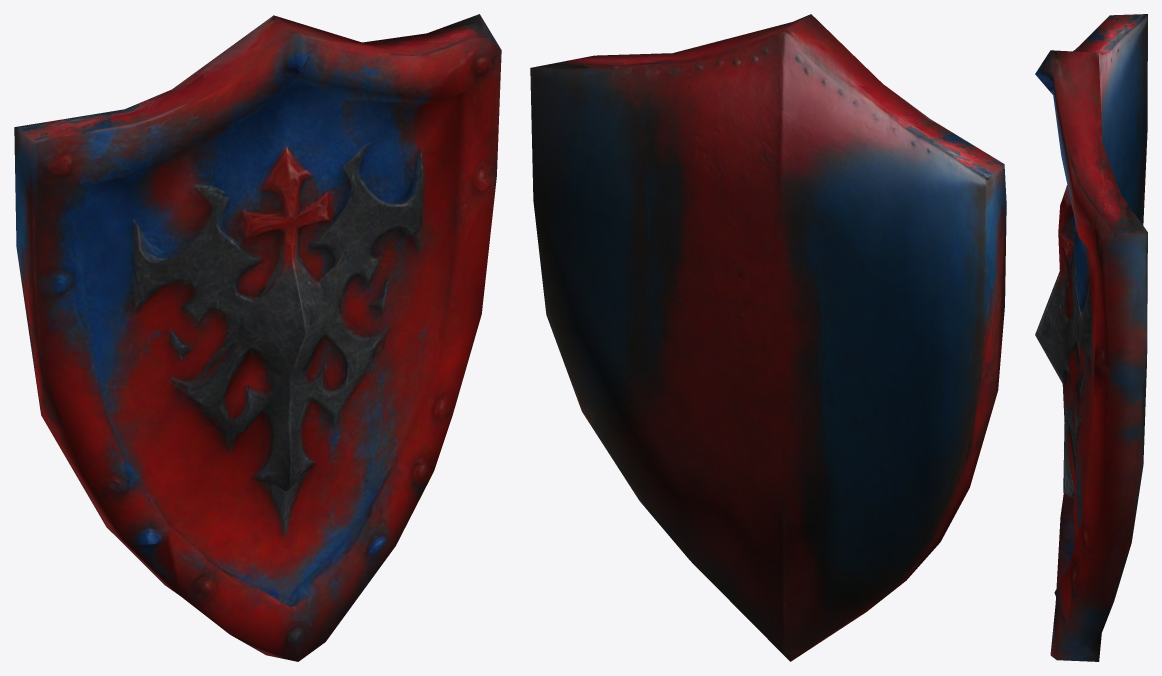
File: Build_a_low_poly_shie_0216235052_texture.fbx
The picture shows the model from 3 angles, left to right: view 1: azimuth 30°, elevation 25°; view 2: azimuth 150°, elevation 25°; view 3: azimuth 270°, elevation 25°; orthographic projection. The views are drawn at different scales.
Visible parts, largest first — view 1: Mesh1; view 2: Mesh1; view 3: Mesh1.
Part boxes in pixels (<box>): Mesh1: <box>14,14,501,661</box>; Mesh1: <box>530,14,1006,661</box>; Mesh1: <box>1035,14,1147,661</box>.
Size of the model in its own units: 153 by 200 by 33.44.
Materials: 1 (1 with a texture image).
